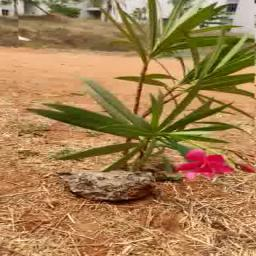OLEANDER: (18, 0, 255, 173)
